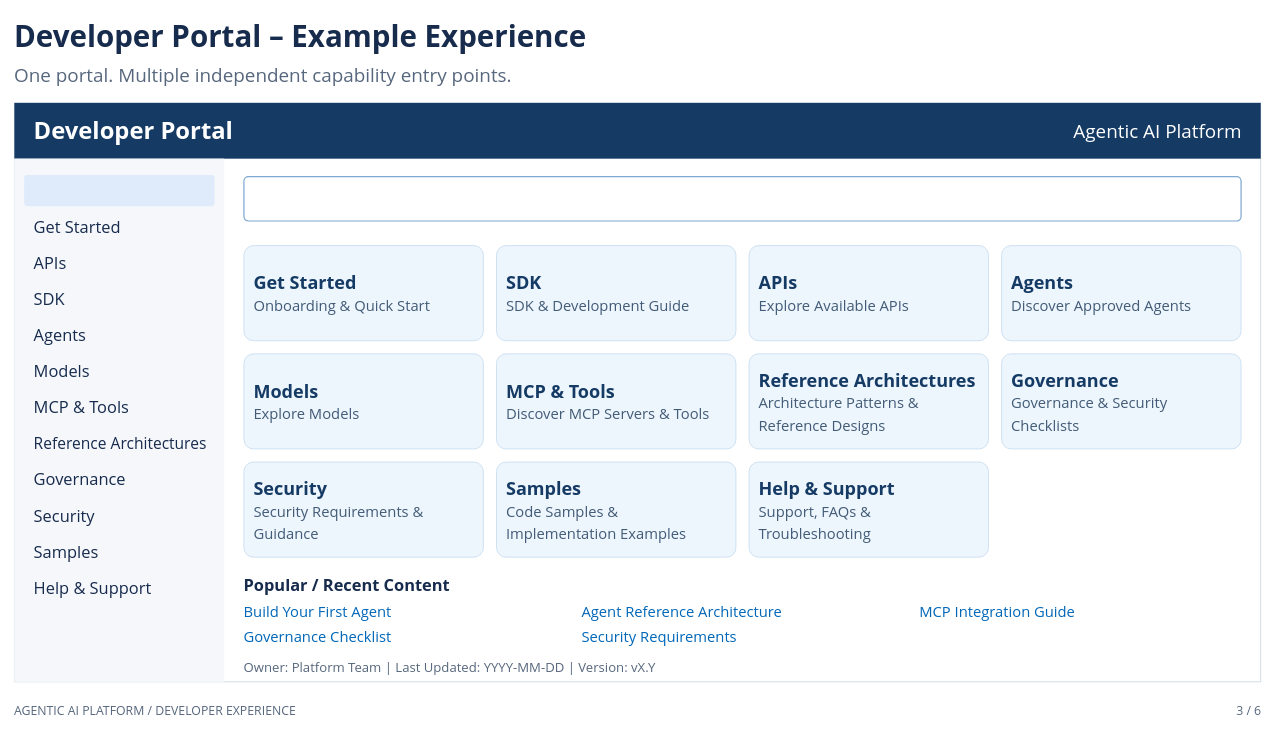
Image size: 1275x733. Some labels were removed from this diagram. Each missing label, with the centre of its shape:
"Home" goes at (119,190).
"Search documentation, APIs, agents, models, MCP tools..." goes at (742,198).
